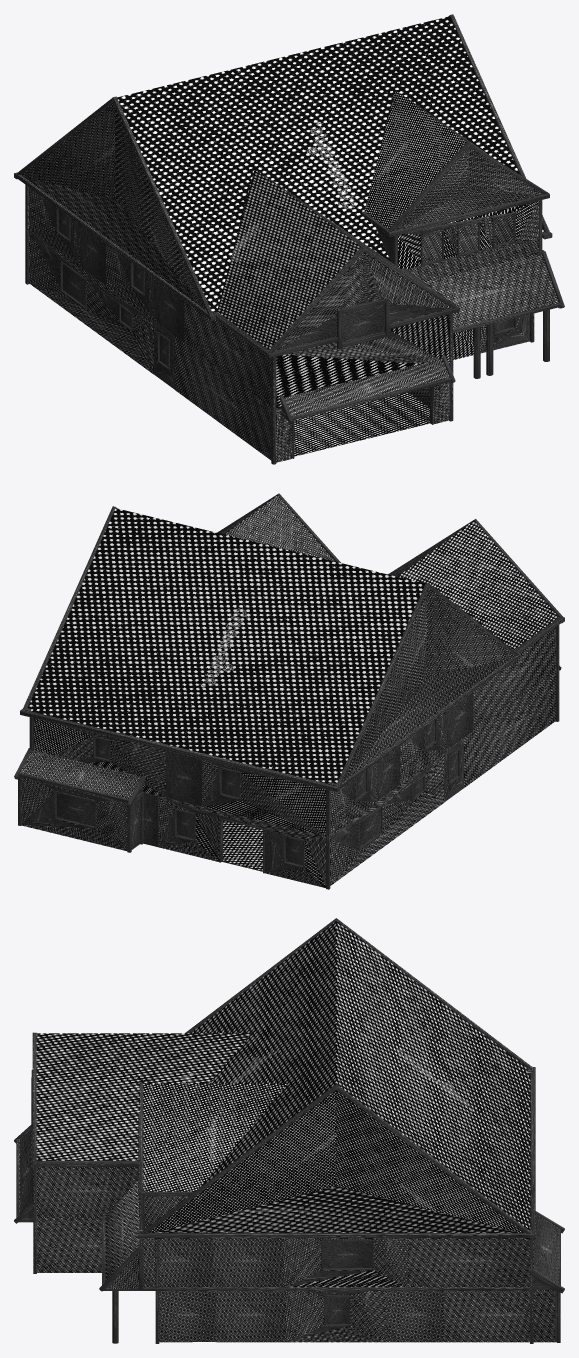
The model's file is house.fbx.
The picture shows the model from 3 angles, top to bottom: view 1: azimuth 30°, elevation 25°; view 2: azimuth 150°, elevation 25°; view 3: azimuth 270°, elevation 25°; orthographic projection. The views are drawn at different scales.
Parts seen in each view (by area): view 1: House_Mesh; view 2: House_Mesh; view 3: House_Mesh.
Boxes of the visible parts, box(x1,y1,x2,y2) form: House_Mesh: box(14, 14, 564, 464); House_Mesh: box(14, 493, 564, 889); House_Mesh: box(14, 918, 564, 1343).
Size of the model in its own units: 420 by 308 by 581.
